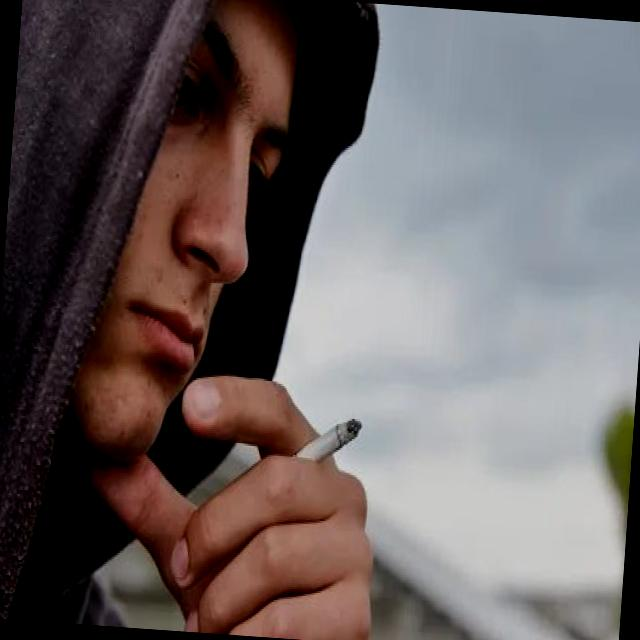cigarette: (284, 408, 366, 483)
